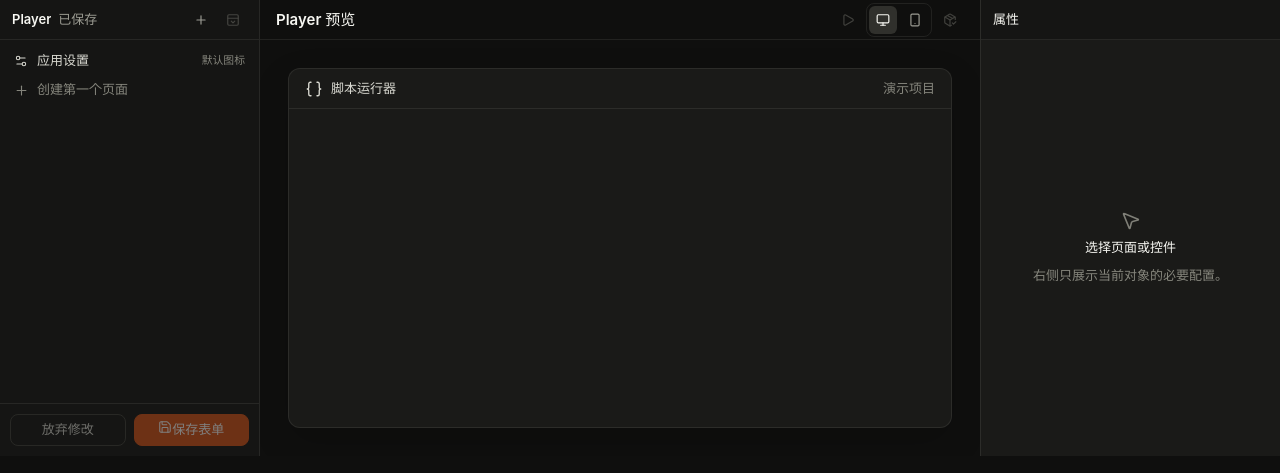
Test: VNextPlayerWorkspace schema3 authoring › 创建第一个页面后直接进入名称输入，避免用户重新寻找下一步
Click the button with class "empty-create" at (130,90), box [6,76,253,104]
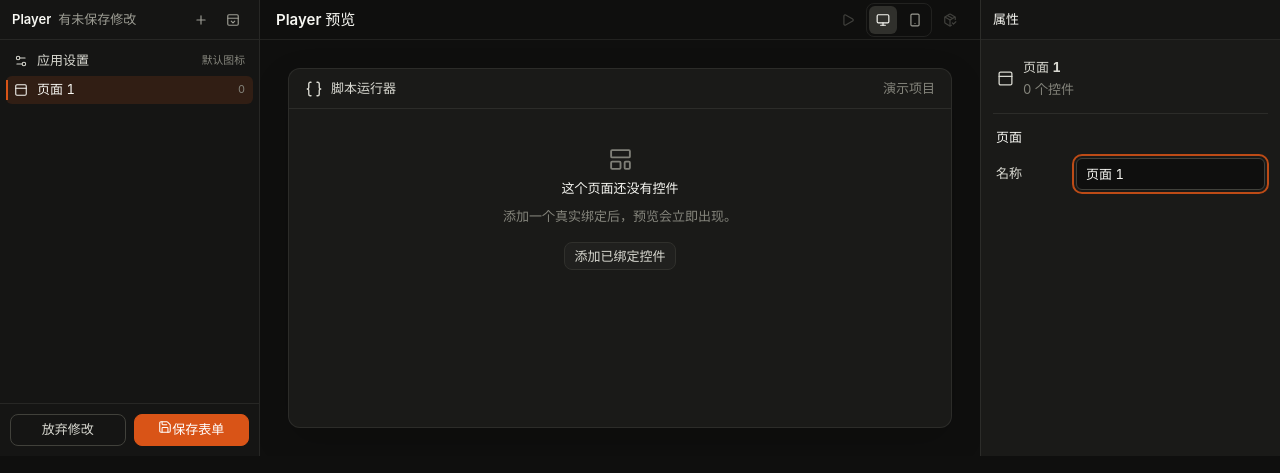
Expected: the field labelled "名称" holds "页面 1", [1076,158,1265,190]
